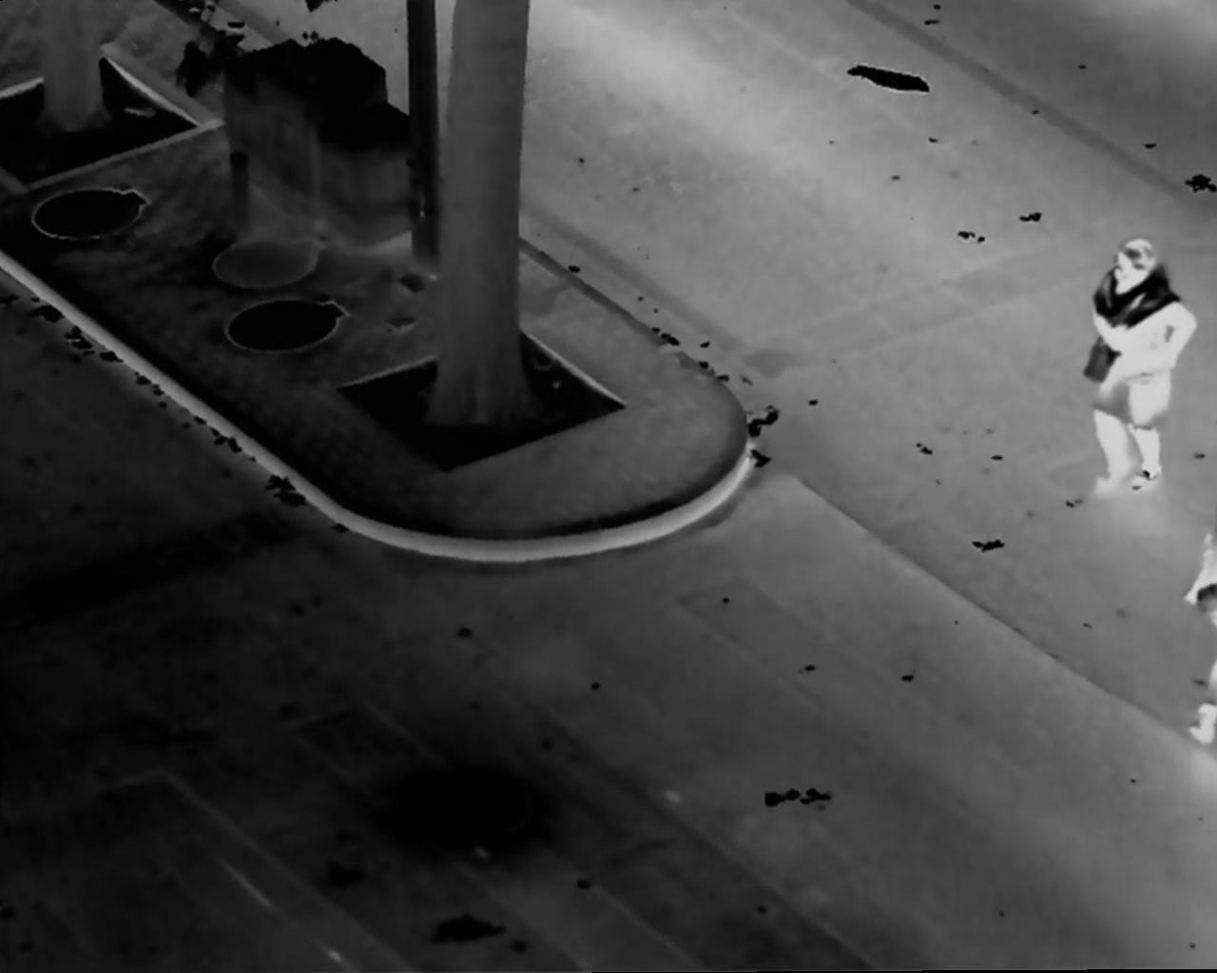person: (1085, 236, 1198, 491), (1174, 498, 1217, 743)
